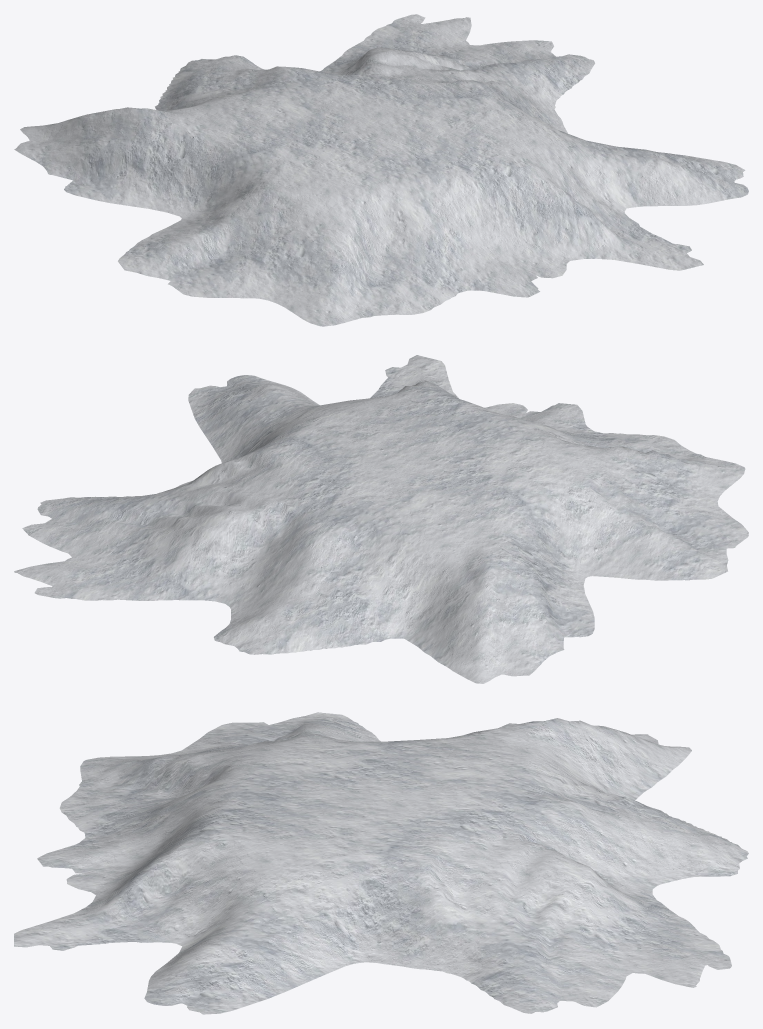
The model's file is Custom_Model_4217e7-transformed.glb.
3 views of the same model, one above another, from view 1: azimuth 30°, elevation 25°; view 2: azimuth 150°, elevation 25°; view 3: azimuth 270°, elevation 25° (orthographic). The views are drawn at different scales.
Visible parts, largest first — view 1: Plane; view 2: Plane; view 3: Plane.
Part boxes in pixels (x1,y1,x2,y2): Plane: (14,14,748,326); Plane: (14,355,748,683); Plane: (14,712,748,1014).
Bounding box in the file's own units: 2.7 × 0.2594 × 2.77.
1 material, 1 textured.
